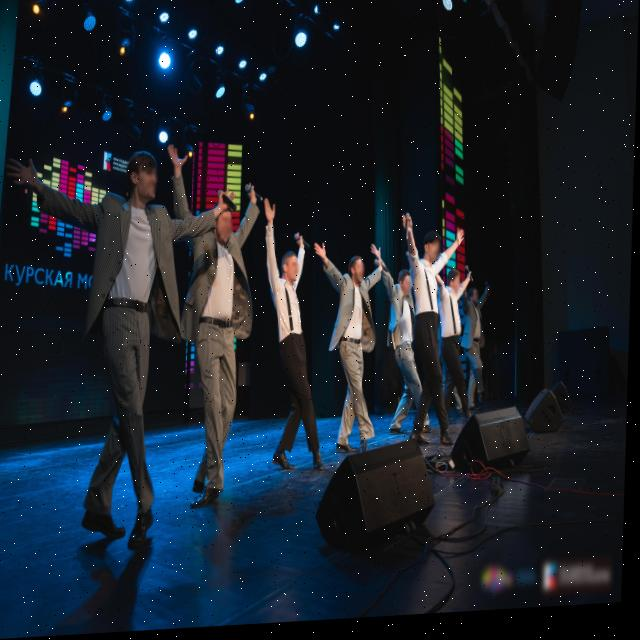Person: (42, 122, 182, 562), (177, 177, 267, 537), (324, 232, 385, 461), (269, 219, 318, 494), (407, 223, 455, 459), (387, 256, 429, 449), (440, 264, 476, 432), (463, 282, 496, 413)
